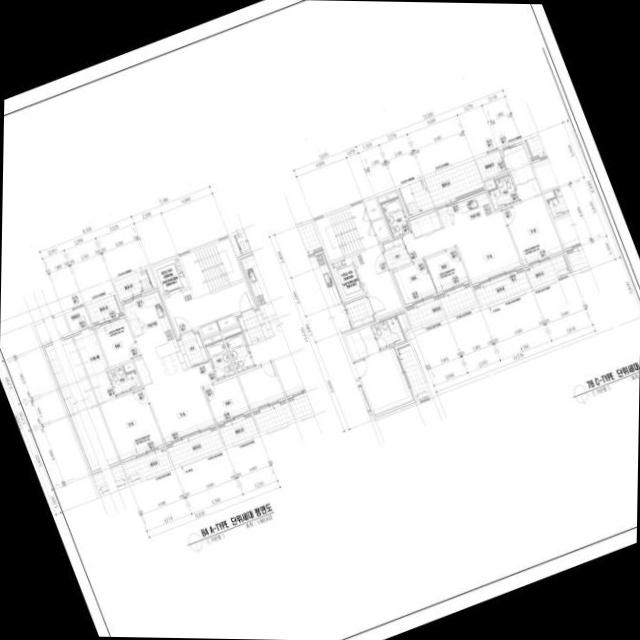background: (0, 0, 640, 640)
space_balconi: (406, 285, 477, 327), (424, 158, 483, 204), (166, 428, 223, 466), (474, 270, 531, 306), (397, 344, 429, 400), (122, 448, 171, 482), (525, 254, 569, 287), (399, 178, 433, 215), (218, 415, 258, 445), (253, 402, 293, 432), (113, 269, 152, 299), (85, 294, 120, 323), (288, 391, 313, 418), (566, 245, 588, 271)
space_bedroom: (88, 370, 163, 460), (502, 177, 563, 267), (354, 347, 413, 413), (95, 316, 139, 366), (203, 375, 249, 422), (238, 362, 284, 409), (425, 247, 469, 294), (392, 259, 437, 304)
space_dressroom: (73, 328, 107, 376), (502, 143, 534, 184), (344, 325, 379, 360)
space_elevator: (331, 256, 364, 298), (151, 257, 187, 295)
space_elevator_hall: (164, 280, 253, 334), (353, 243, 402, 316)
space_front: (237, 308, 270, 345), (176, 331, 208, 367), (344, 296, 374, 328), (382, 236, 410, 269)
space_kitchen: (122, 290, 186, 384), (437, 191, 493, 230)
space_living_room: (402, 210, 521, 284), (143, 360, 216, 442)
space_other: (475, 149, 505, 178), (64, 305, 90, 331), (364, 197, 381, 219), (371, 218, 388, 239), (396, 188, 408, 216), (199, 320, 218, 335), (216, 314, 235, 328), (221, 325, 241, 337), (202, 332, 221, 344), (377, 191, 397, 202), (396, 312, 408, 329), (230, 235, 240, 254), (146, 267, 156, 286), (114, 293, 122, 311), (123, 361, 134, 372), (485, 179, 496, 189), (395, 340, 409, 347)
space_staircase: (179, 237, 243, 298), (314, 202, 378, 260)
space_toilet: (205, 339, 235, 379), (224, 332, 254, 372), (381, 197, 410, 236), (487, 174, 519, 209), (371, 316, 404, 349), (107, 365, 141, 395)
